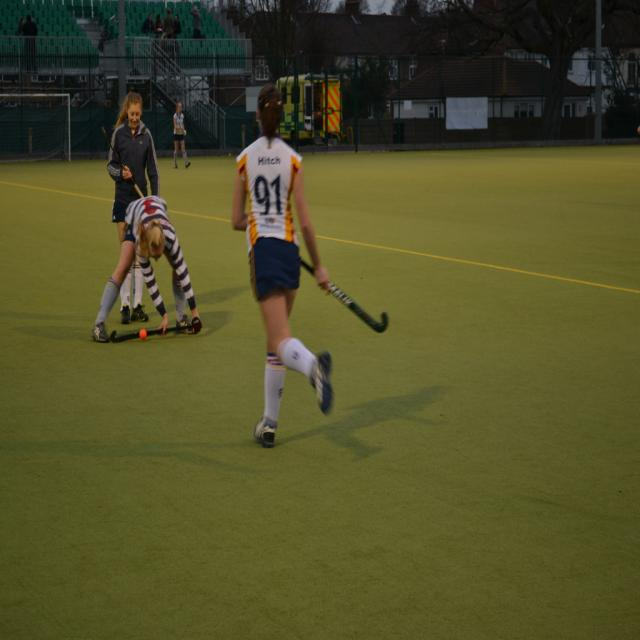Ball: (139, 328, 147, 341), (229, 154, 231, 156)
